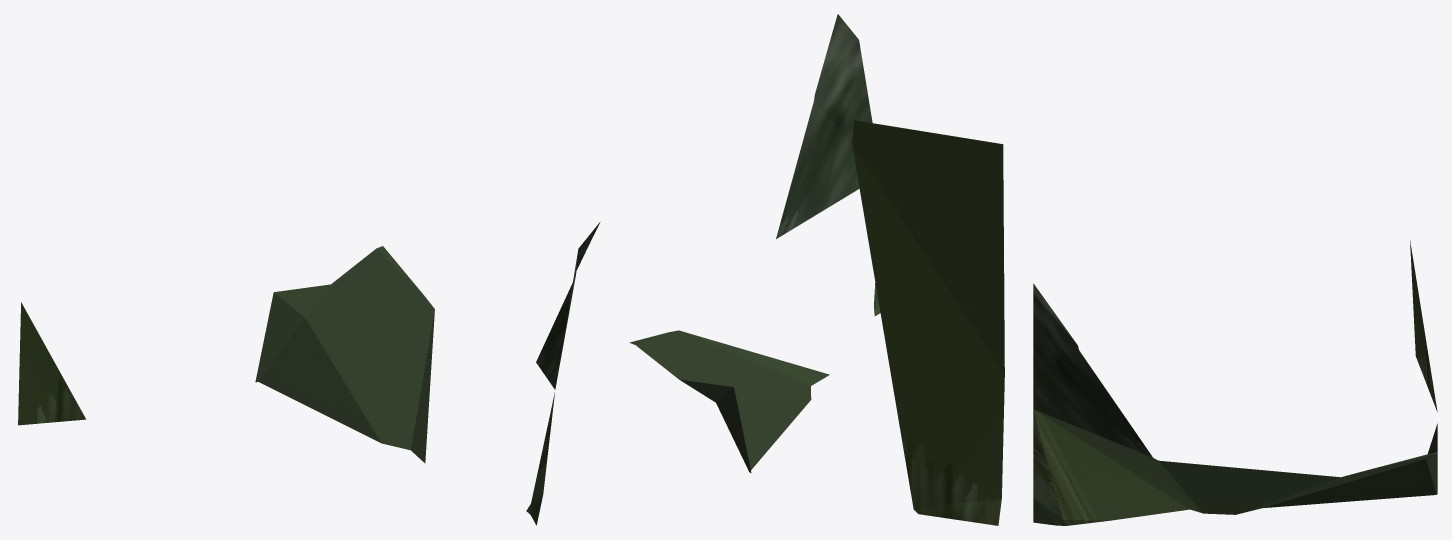
3 renders of one model, left to right at view 1: azimuth 30°, elevation 25°; view 2: azimuth 150°, elevation 25°; view 3: azimuth 270°, elevation 25°, orthographic. The views are drawn at different scales.
Size of the model in its own units: 2.95 by 2.95 by 2.95.
2 materials, 2 textured.
